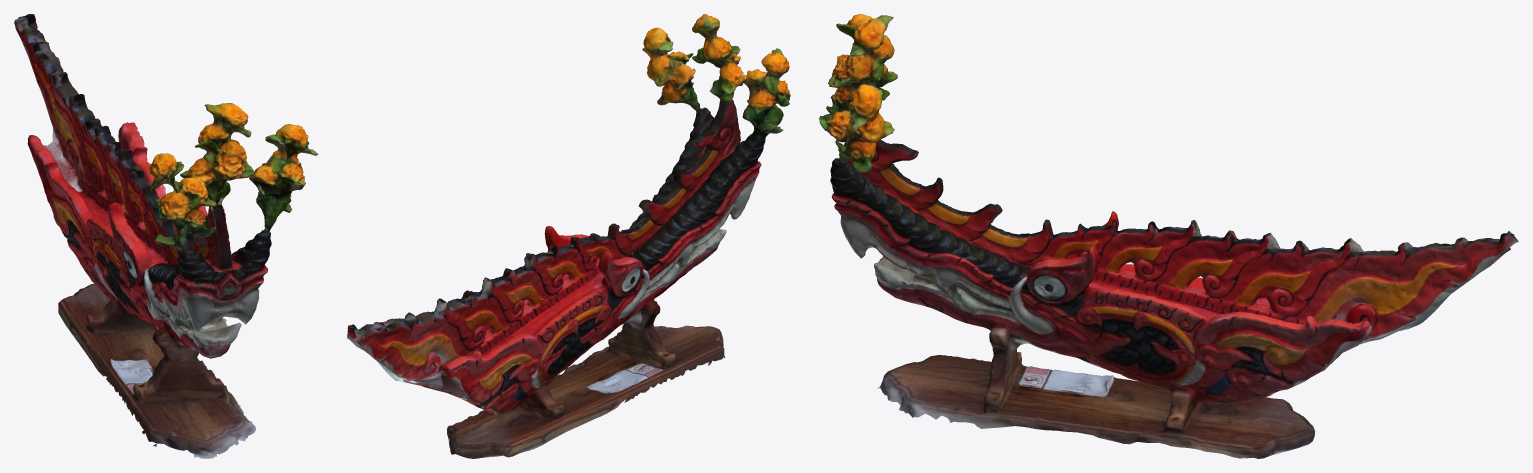
Rendered from epicboat.gltf.
3 renders of one model, left to right at view 1: azimuth 30°, elevation 25°; view 2: azimuth 150°, elevation 25°; view 3: azimuth 270°, elevation 25°, orthographic. The views are drawn at different scales.
Parts seen in each view (by area): view 1: g0; view 2: g0; view 3: g0.
Boxes of the visible parts, x1,y1,x2,y2 form: g0: (14, 14, 318, 458); g0: (347, 14, 790, 458); g0: (819, 14, 1518, 458).
Size of the model in its own units: 0.0223 by 0.035 by 0.0577.
Materials: 1 (1 with a texture image).
